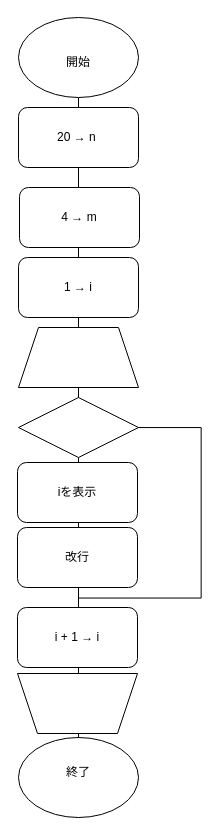
Image size: 219x835. Some labels were removed from this diagram. Here are the shapes that lost their labels. From the top down, the box of each, then its label:
(18, 326, 138, 388): ループ開始 i > n
(18, 396, 138, 458): i ÷ m が割り切れる
(16, 672, 138, 734): ループ 終了
